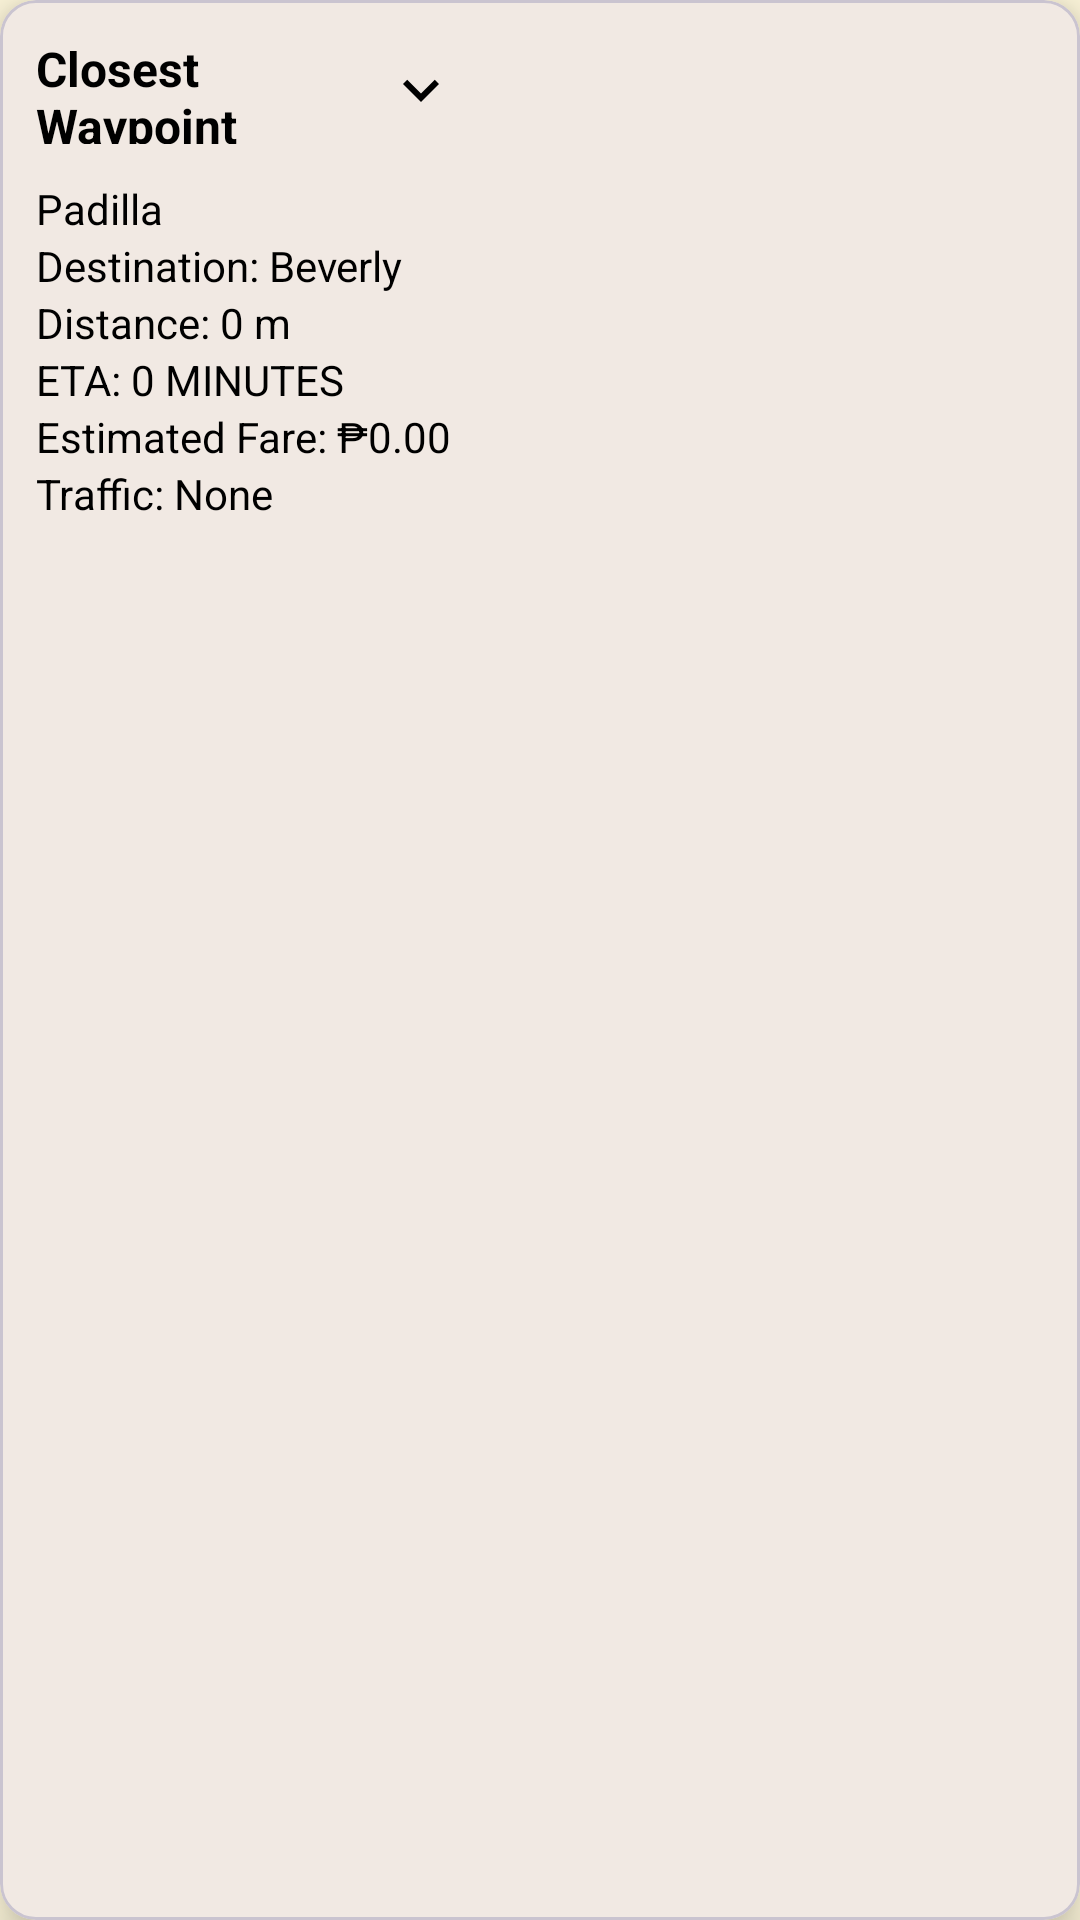

Point at icon controls on the screen. Image size 1080x1920, points as [x,y].
Toggle: [421,91]
